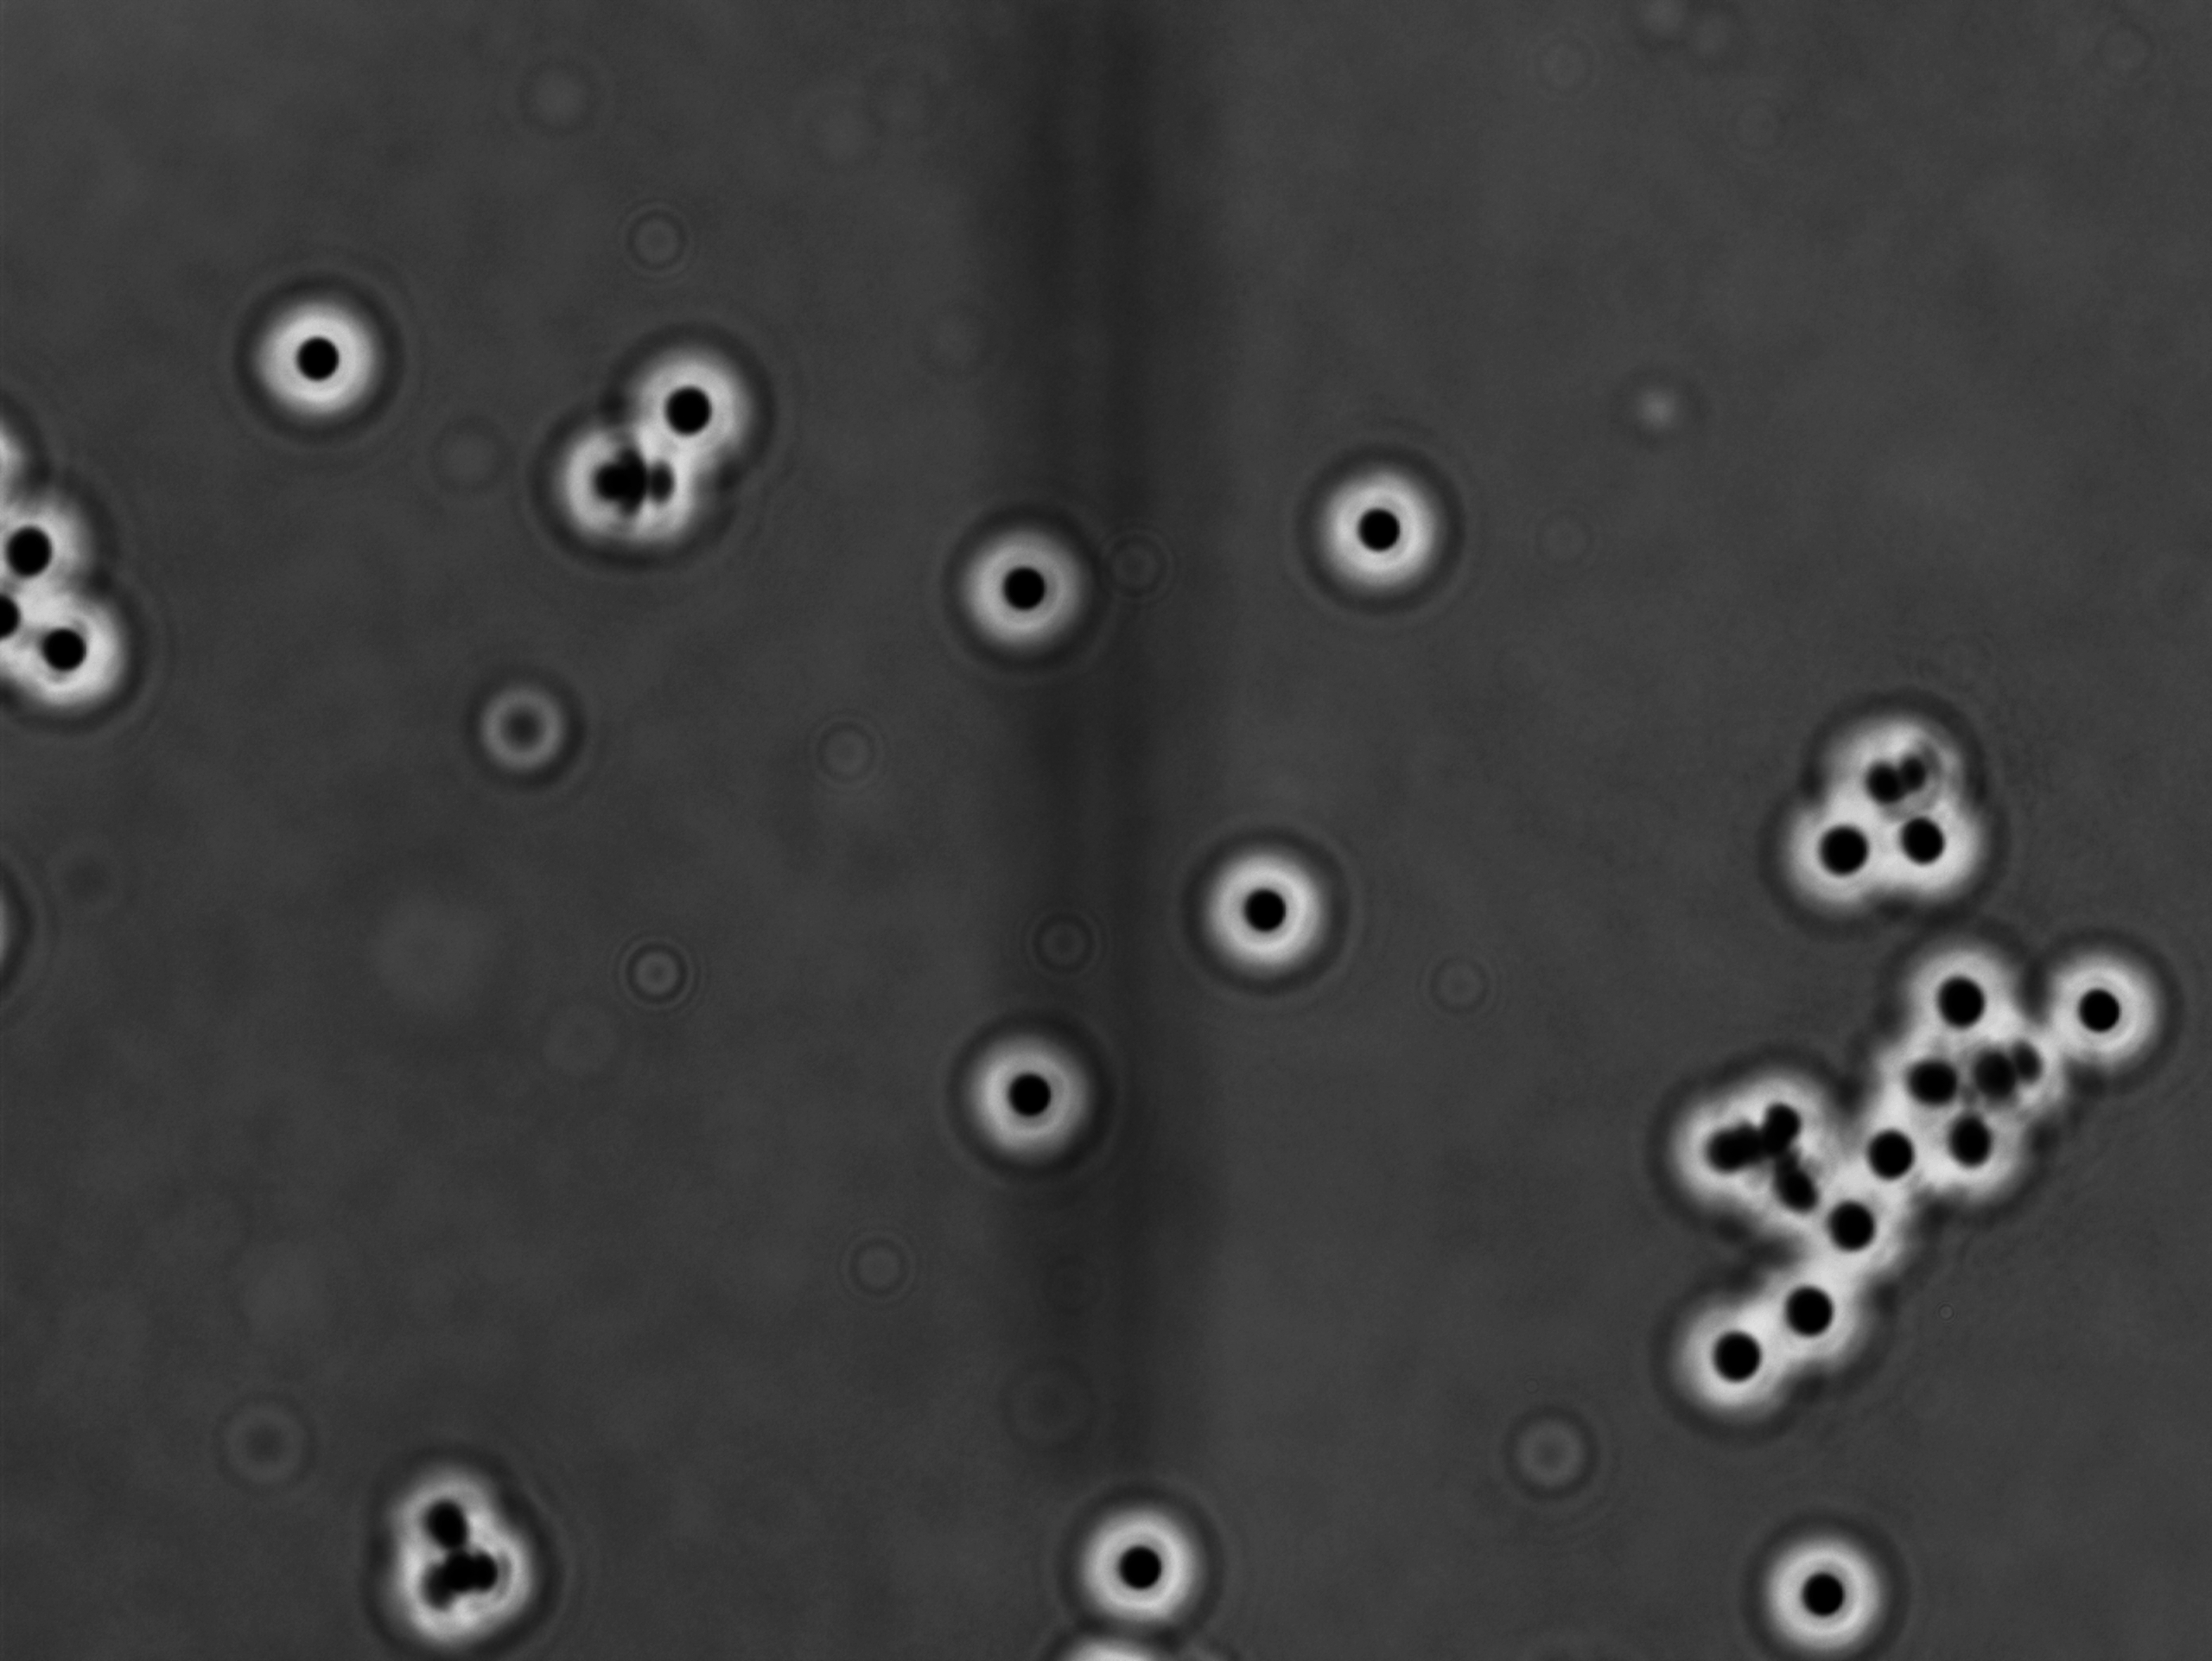depth:-40: (1165, 817, 1364, 1003), (1280, 440, 1467, 625), (935, 998, 1123, 1181), (935, 499, 1118, 675), (222, 281, 415, 445), (593, 307, 766, 473), (2029, 913, 2175, 1085), (1064, 1485, 1225, 1642), (1743, 1511, 1910, 1661), (1643, 1275, 1802, 1429), (1739, 782, 1893, 930), (1734, 1227, 1879, 1371)
